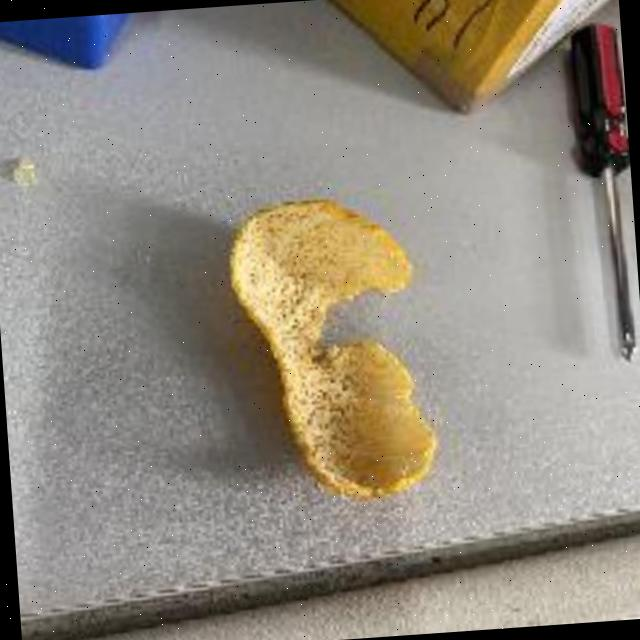orange-peel: (219, 184, 446, 510)
